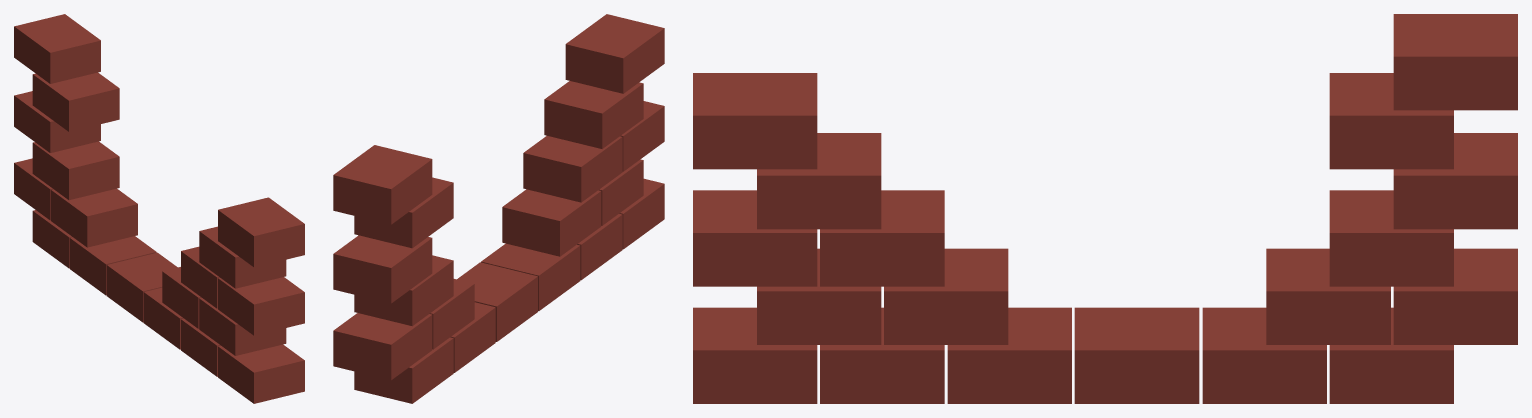
The model's file is brick_wall_broken.fbx.
3 views of the same model, side by side, from view 1: azimuth 30°, elevation 25°; view 2: azimuth 150°, elevation 25°; view 3: azimuth 270°, elevation 25° (orthographic). The views are drawn at different scales.
Parts seen in each view (by area): view 1: Cube.017; view 2: Cube.017; view 3: Cube.017.
Part boxes in pixels (x1=…): Cube.017: x1=14, y1=14, x2=304, y2=403; Cube.017: x1=333, y1=14, x2=664, y2=403; Cube.017: x1=693, y1=14, x2=1517, y2=403.
Bounding box in the file's own units: 63.47 × 241 × 519.
